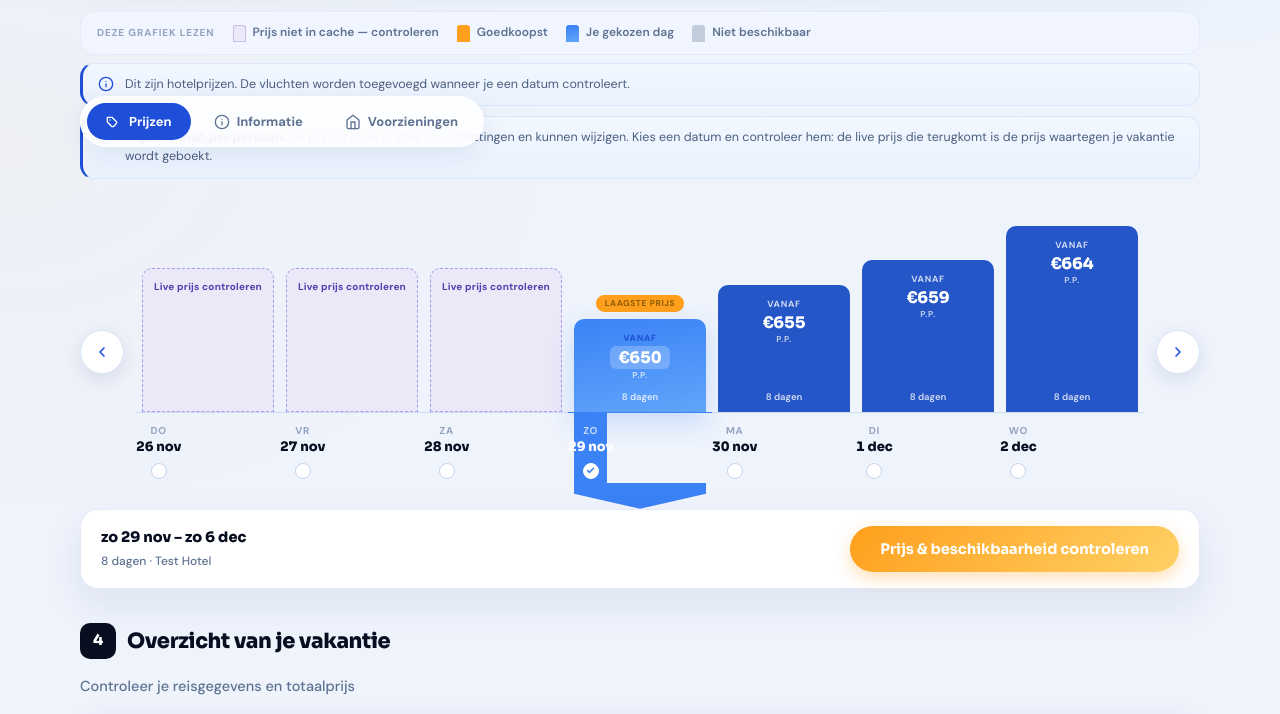
Test case: room differences are measured from the rate being quoted › moving the pick back down re-signs every row again
(page scrolled)
Step 1. Click the button "Laagste prijs vanaf €650 p.p. 8 dagen zo 29 nov" → (640, 355), box 568,201 -> 712,509
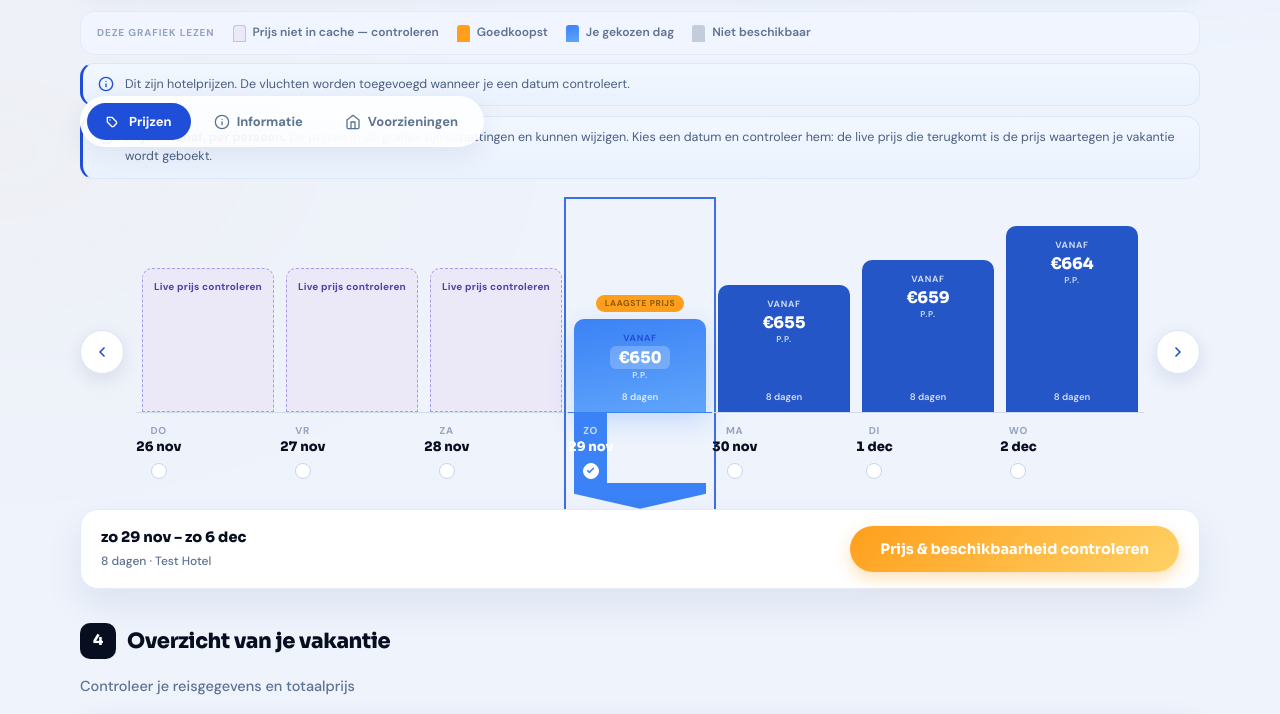
Step 2. Click the button "Prijs & beschikbaarheid controleren" → (1015, 549), box 850,526 -> 1179,572
(page scrolled)
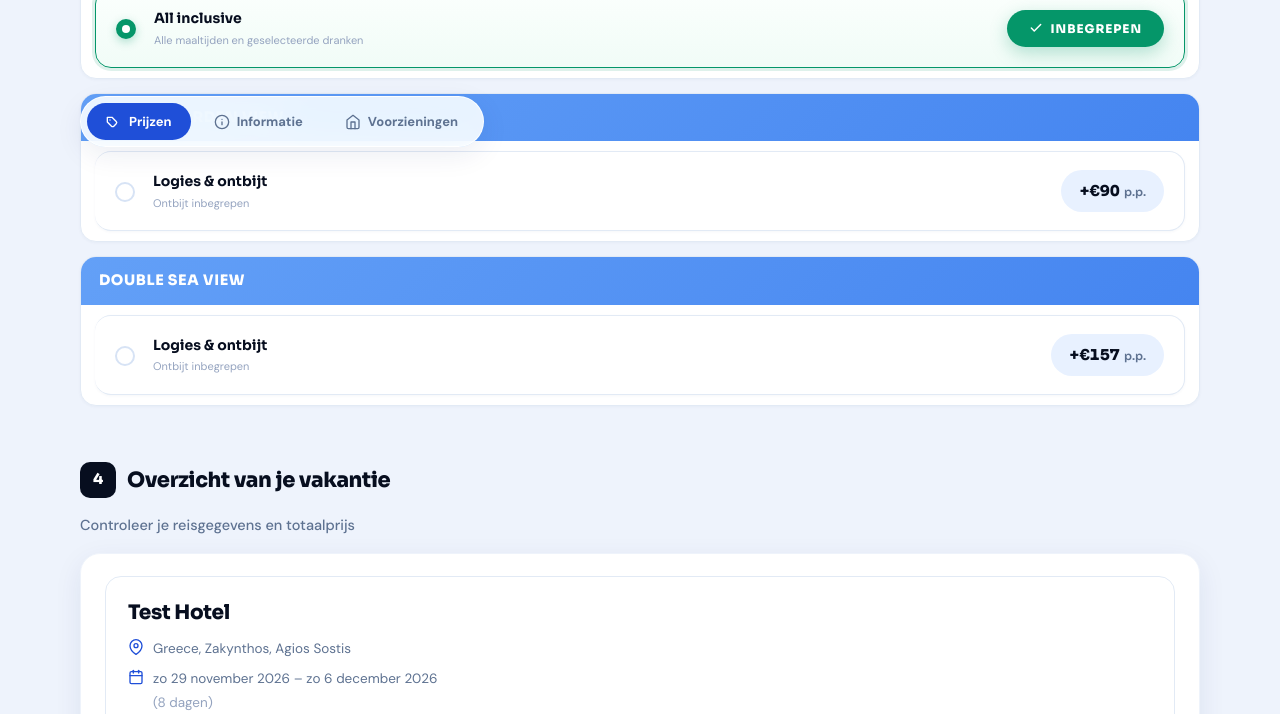
expect the 3rd element with class "room-option" is shown: met
Step 3. Click the 3rd element with class "room-option" → (640, 355), box 95,315 -> 1185,395
(page scrolled)
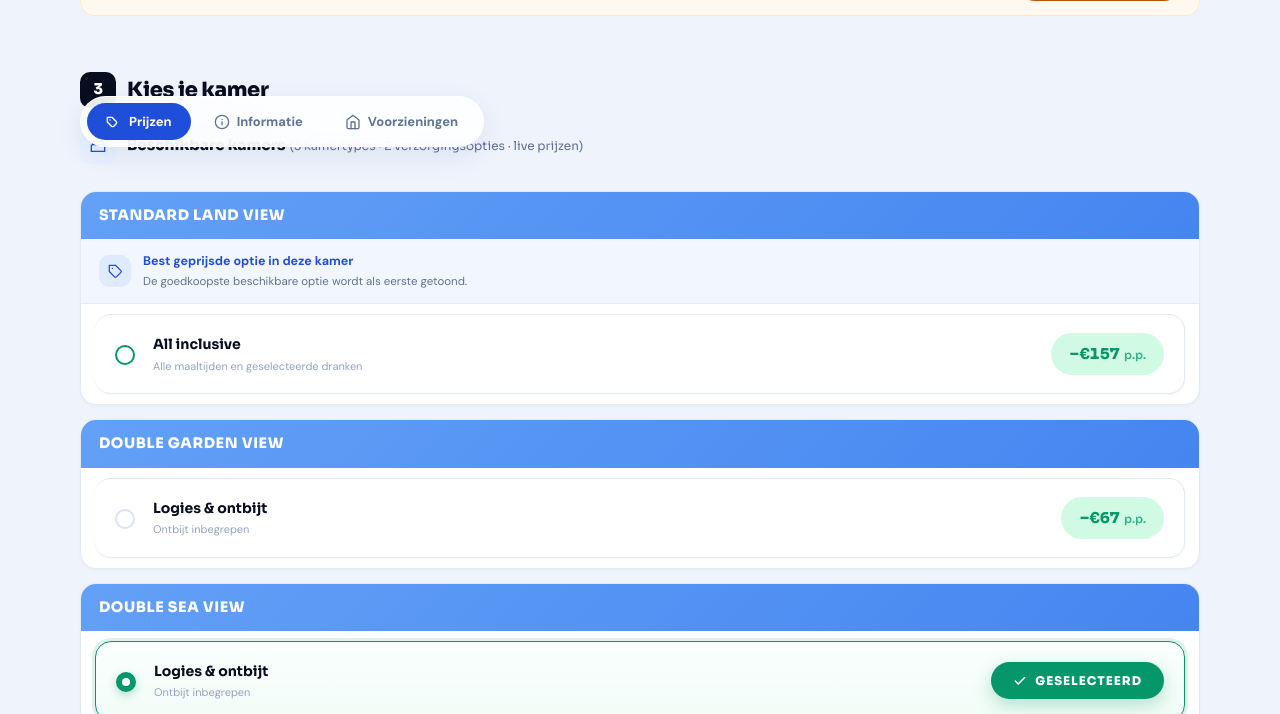
Step 4. Click the element with class "room-option" that starts with "All inclusive" → (640, 354), box 95,314 -> 1185,394
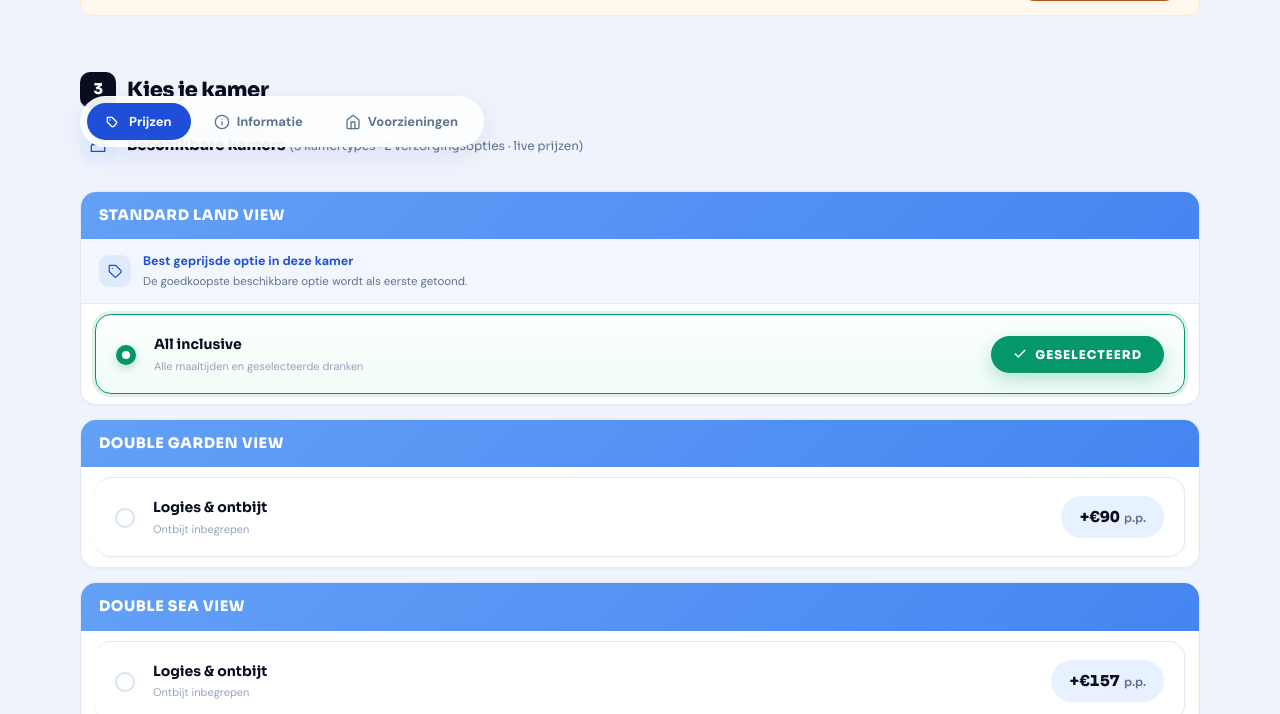
expect the element with class "cheaper" is gone: met
